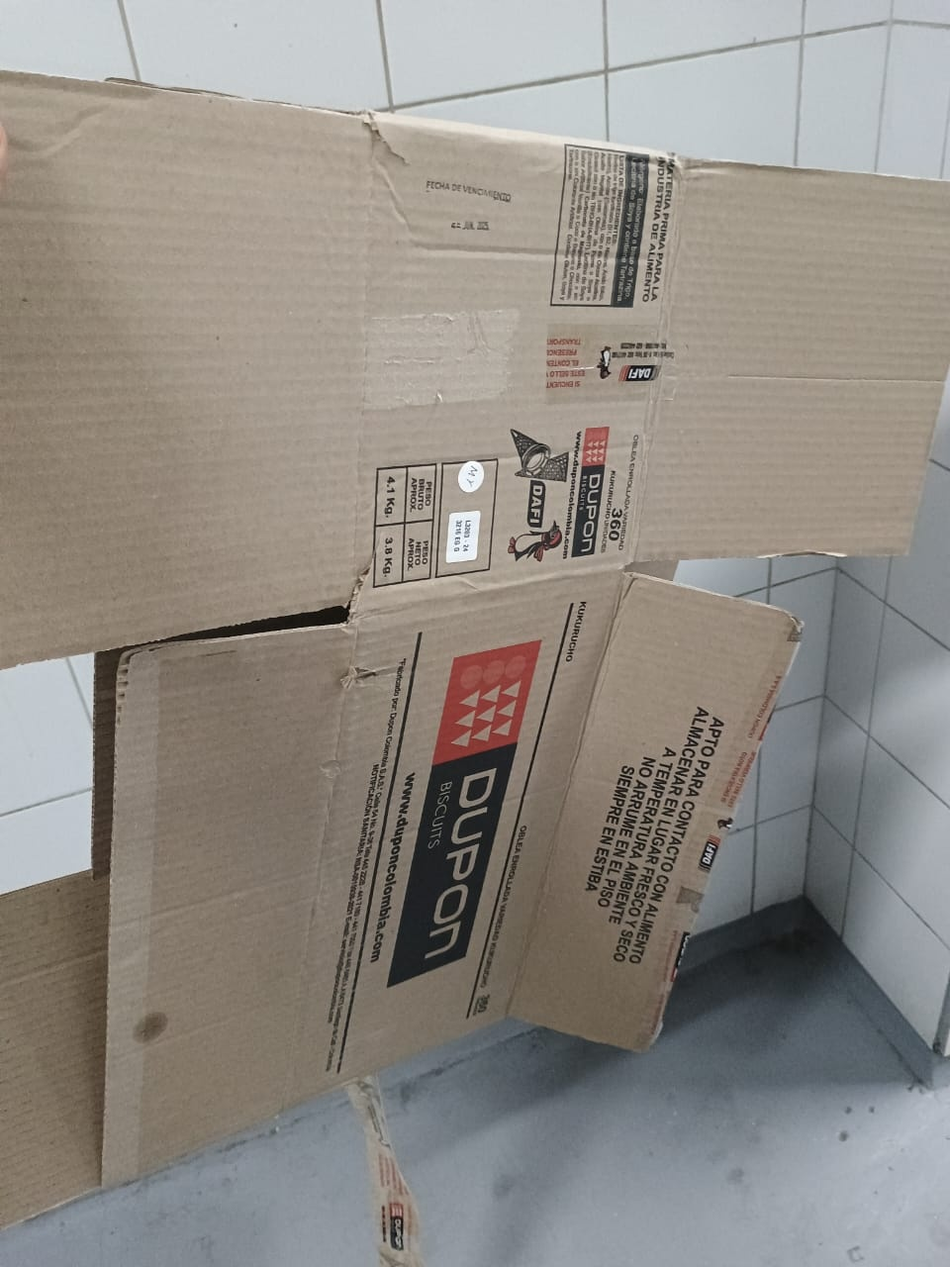Carton: (0, 74, 947, 1232)
